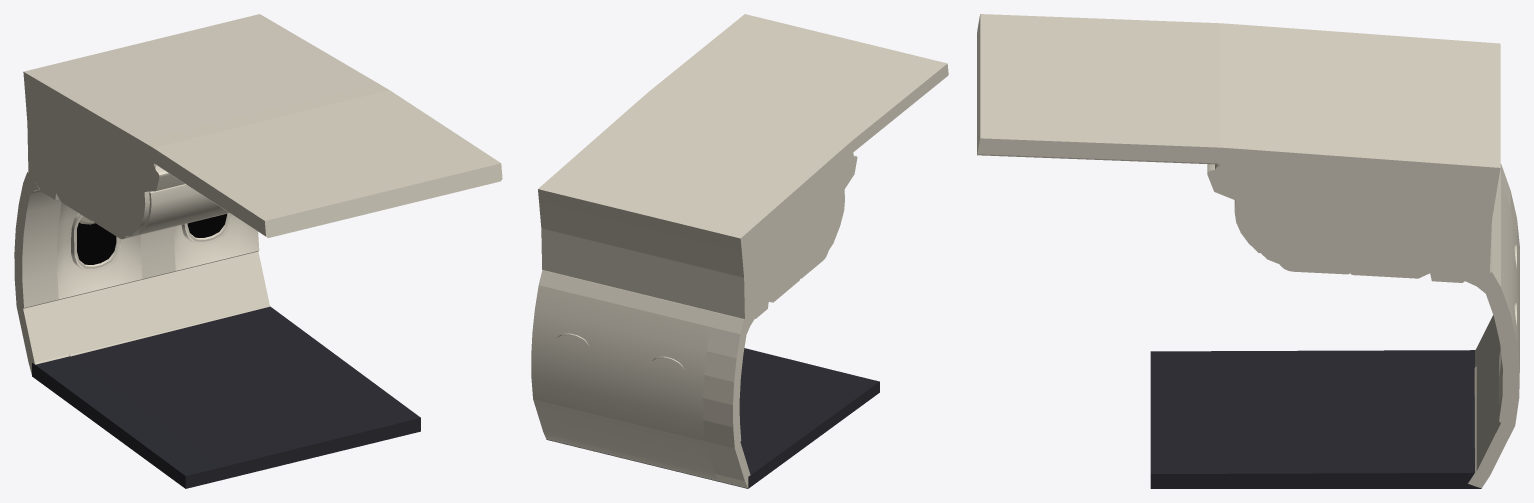
The model's file is air_genericsection.fbx.
3 views of the same model, side by side, from view 1: azimuth 30°, elevation 25°; view 2: azimuth 150°, elevation 25°; view 3: azimuth 270°, elevation 25° (orthographic). The views are drawn at different scales.
Visible parts, largest first — view 1: overhead, floor, airplanesection_generic, pCube42, window2, window1; view 2: overhead, airplanesection_generic, floor; view 3: overhead, floor, airplanesection_generic.
Boxes of the visible parts, x1=… form: overhead: x1=23, y1=14, x2=502, y2=239; floor: x1=32, y1=306, x2=420, y2=488; airplanesection_generic: x1=14, y1=171, x2=270, y2=374; pCube42: x1=139, y1=184, x2=228, y2=233; window2: x1=71, y1=213, x2=120, y2=271; window1: x1=181, y1=213, x2=231, y2=244; overhead: x1=538, y1=14, x2=948, y2=319; airplanesection_generic: x1=531, y1=270, x2=754, y2=488; floor: x1=546, y1=348, x2=879, y2=488; overhead: x1=977, y1=14, x2=1500, y2=282; floor: x1=1150, y1=350, x2=1481, y2=488; airplanesection_generic: x1=1465, y1=163, x2=1519, y2=488.
Bounding box in the file's own units: 4.62 × 6.08 × 8.51.
